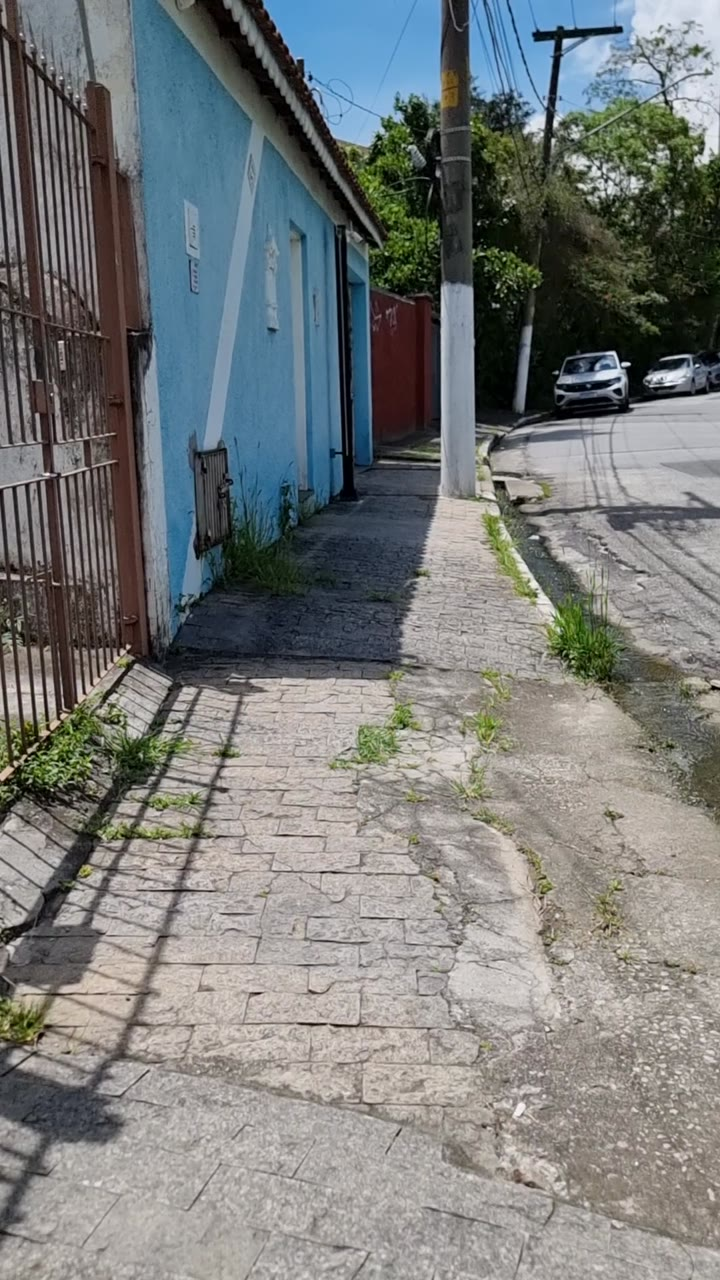obstaculo: (432, 0, 482, 486)
